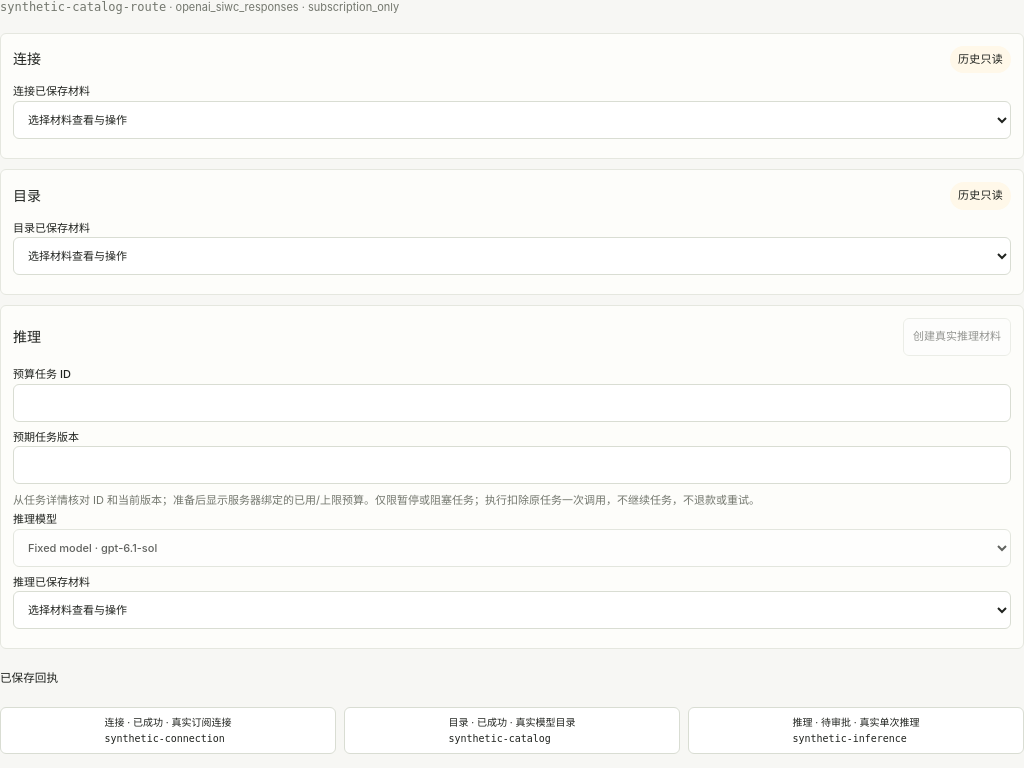
Test case: keeps historical unbound inference readable but cannot approve or execute it
(page scrolled)
Select "synthetic-inference · 待审批" in the dropdown labelled "推理已保存材料" at (512, 610), box 13,591 -> 1011,629
(page scrolled)
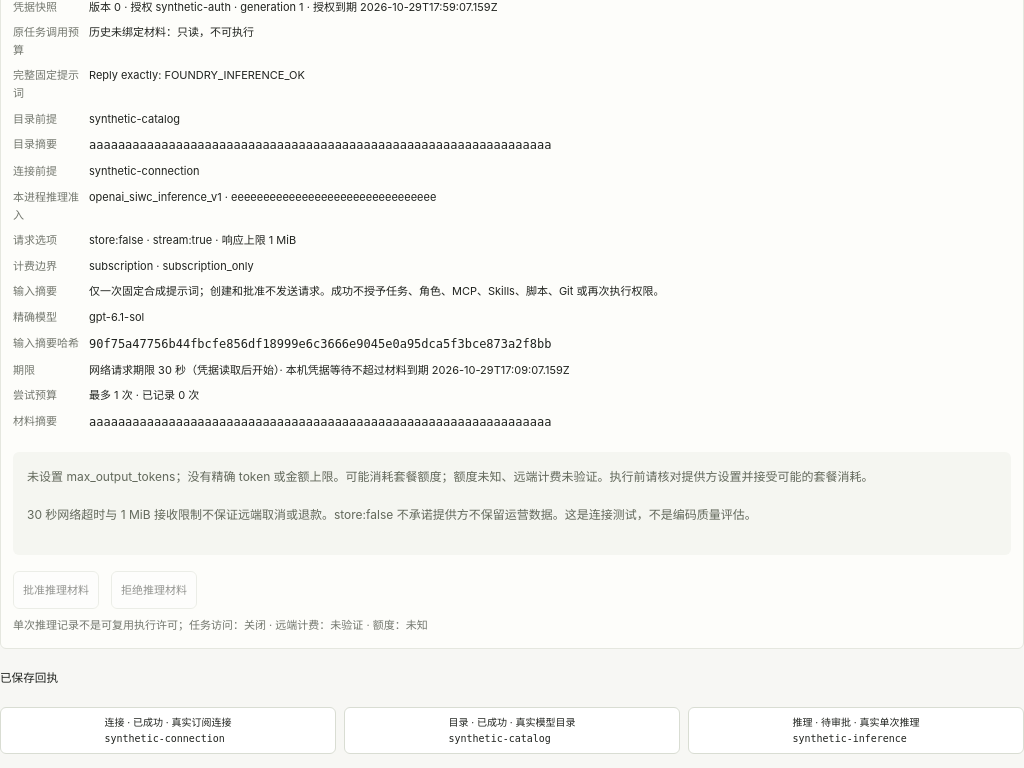
Now the button "批准推理材料" is disabled, box 13,571 -> 99,609
